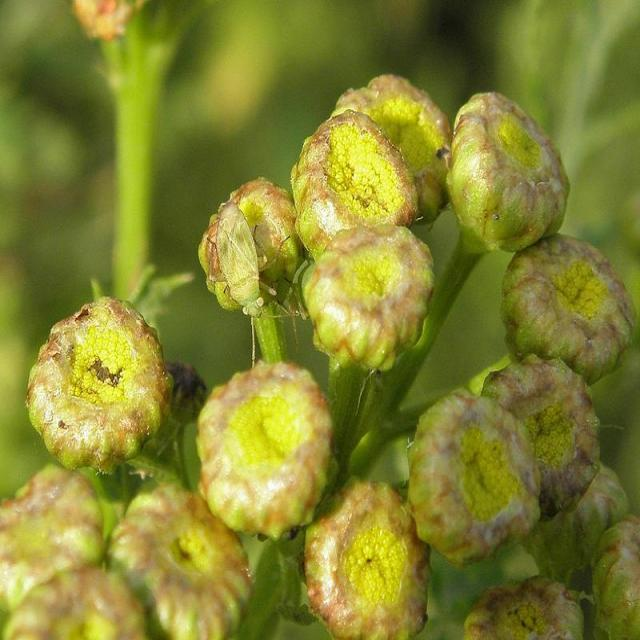Miridae-Adult-: (204, 197, 294, 326)
